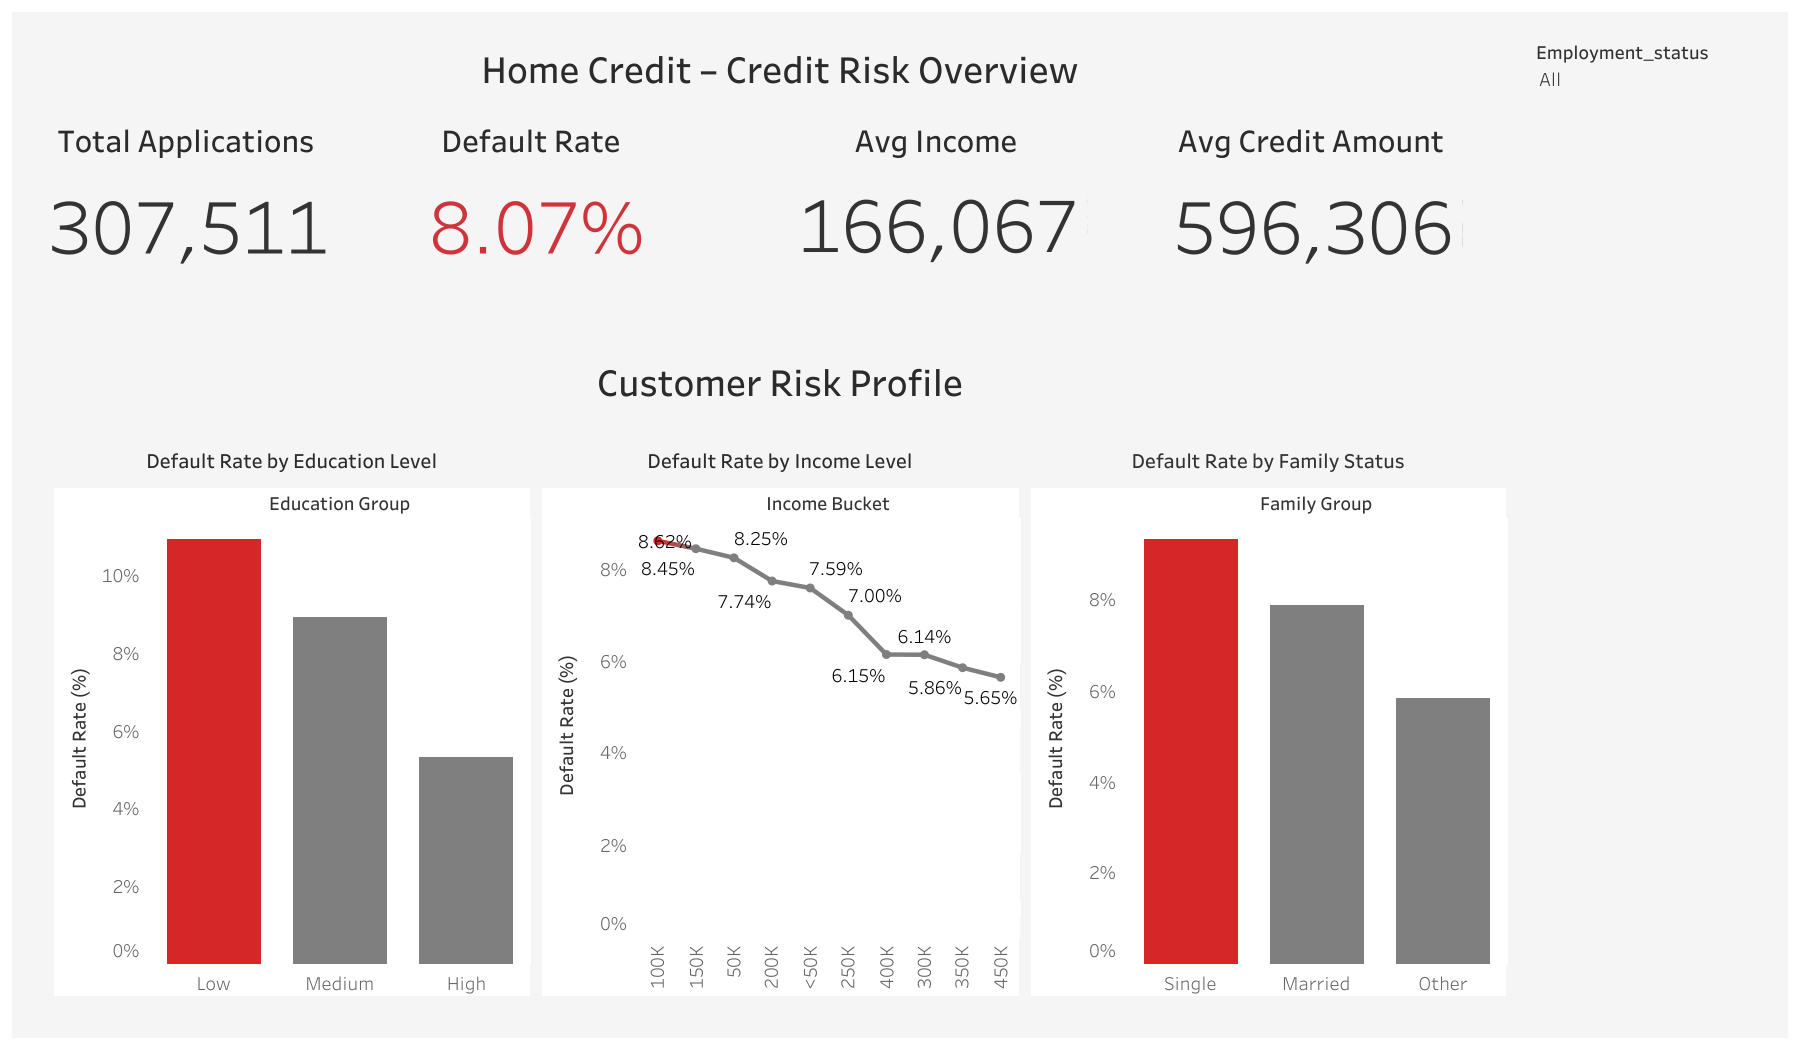

What the dashboard file says about the page in this screenshot:
{"tool":"tableau","page":{"name":"Home Credit – Credit Risk Overview","canvas":[1200,700],"ordinal":0},"visuals":[{"type":"text","box":[20,20,1000,48.6]},{"type":"filter","title":"Default Rate by Education","param":"[federated.0rgs3gi0m1q2uu12ridap0bqi1cb].[none:employment_status:nk]","box":[1020,20,160,89]},{"type":"worksheet","title":"Total Customers","mark":"Automatic","box":[20,68.6,250,164.4]},{"type":"worksheet","title":"Default Rate","mark":"Automatic","box":[270,68.6,250,164.4]},{"type":"worksheet","title":"Average Income","mark":"Automatic","box":[520,68.6,250,164.4]},{"type":"worksheet","title":"Average Credit Amount","mark":"Automatic","box":[770,68.6,250,164.4]},{"type":"text","box":[20,233,1000,41]},{"type":"worksheet","title":"Default Rate by Education","mark":"Bar","rows":["target"],"cols":["education_group"],"box":[32,286,325.3,382]},{"type":"worksheet","title":"Default Rate by Income","mark":"Line","rows":["target"],"cols":["Amt Income Total (bin)"],"box":[357.3,286,325.3,382]},{"type":"worksheet","title":"Default Rate by Family Group","mark":"Bar","rows":["target"],"cols":["family_group"],"box":[682.7,286,325.3,382]}]}

Visuals, with their boxes in screenshot pixels (x1, y1, x2, y2), scaled from the page's 1200x700 canvas onto the 1799x1049 screenshot:
text: left=30, top=30, right=1529, bottom=103
"Default Rate by Education" filter: left=1529, top=30, right=1769, bottom=163
"Total Customers" worksheet: left=30, top=103, right=405, bottom=349
"Default Rate" worksheet: left=405, top=103, right=780, bottom=349
"Average Income" worksheet: left=780, top=103, right=1154, bottom=349
"Average Credit Amount" worksheet: left=1154, top=103, right=1529, bottom=349
text: left=30, top=349, right=1529, bottom=411
"Default Rate by Education" worksheet (Bar marks): left=48, top=429, right=536, bottom=1001
"Default Rate by Income" worksheet (Line marks): left=536, top=429, right=1023, bottom=1001
"Default Rate by Family Group" worksheet (Bar marks): left=1023, top=429, right=1511, bottom=1001
